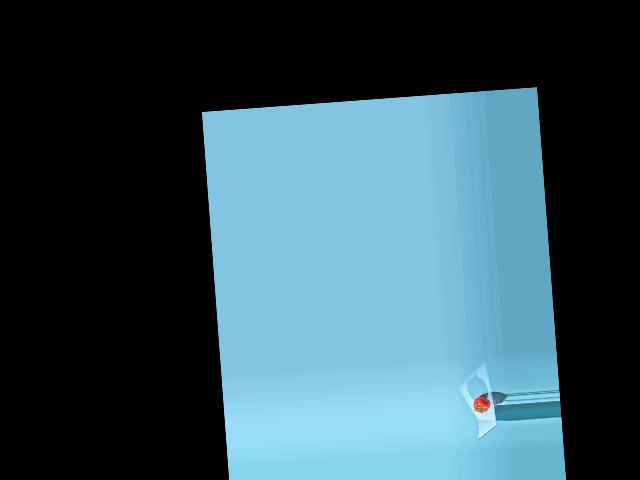tomato: (473, 395, 491, 413)
